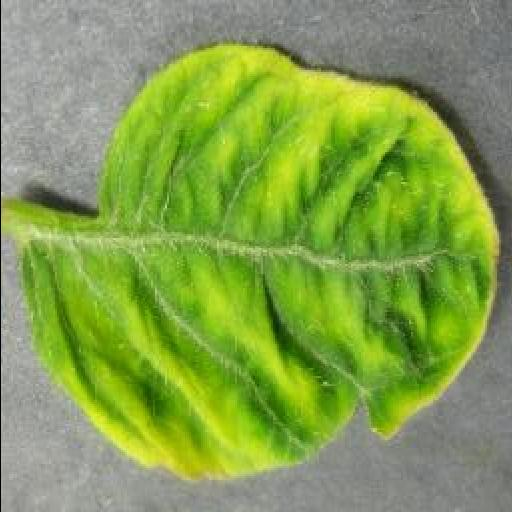disease_tomato: (23, 42, 505, 478)
